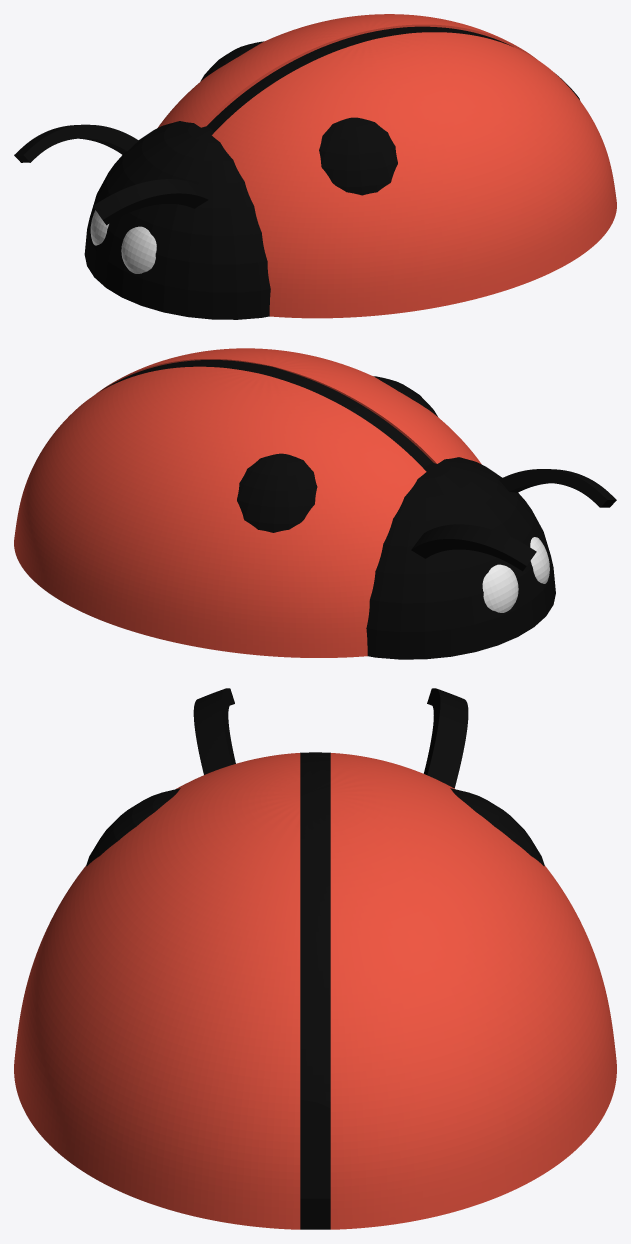
The model's file is Ladybird.glb.
The picture shows the model from 3 angles, top to bottom: view 1: azimuth 30°, elevation 25°; view 2: azimuth 150°, elevation 25°; view 3: azimuth 270°, elevation 25°; orthographic projection. The views are drawn at different scales.
Visible parts, largest first — view 1: Body, Head, L_Spot, L_Tenna, Stripe, R_Tenna, L_Eye, R_Spot, R_Eye; view 2: Body, Head, R_Spot, Stripe, R_Tenna, L_Tenna, R_Eye, L_Eye, L_Spot; view 3: Body, Stripe, R_Tenna, L_Tenna, R_Spot, L_Spot.
Boxes of the visible parts, x1,y1,x2,y2 form: Body: (158, 14, 616, 318); Head: (84, 121, 270, 319); L_Spot: (319, 117, 397, 195); L_Tenna: (93, 179, 208, 225); Stripe: (207, 26, 579, 132); R_Tenna: (14, 124, 138, 162); L_Eye: (121, 226, 156, 273); R_Spot: (200, 41, 263, 81); R_Eye: (90, 210, 108, 245); Body: (14, 348, 481, 657); Head: (366, 457, 555, 659); R_Spot: (237, 453, 317, 532); Stripe: (100, 360, 433, 467); R_Tenna: (411, 524, 536, 571); L_Tenna: (499, 469, 616, 507); R_Eye: (482, 564, 518, 612); L_Eye: (530, 537, 549, 583); L_Spot: (373, 376, 438, 417); Body: (14, 753, 616, 1229); Stripe: (300, 756, 330, 1229); R_Tenna: (423, 688, 468, 788); L_Tenna: (193, 688, 235, 774); R_Spot: (450, 788, 544, 866); L_Spot: (86, 788, 180, 866).
Bounding box in the file's own units: 2.93 × 0.9942 × 1.99.
